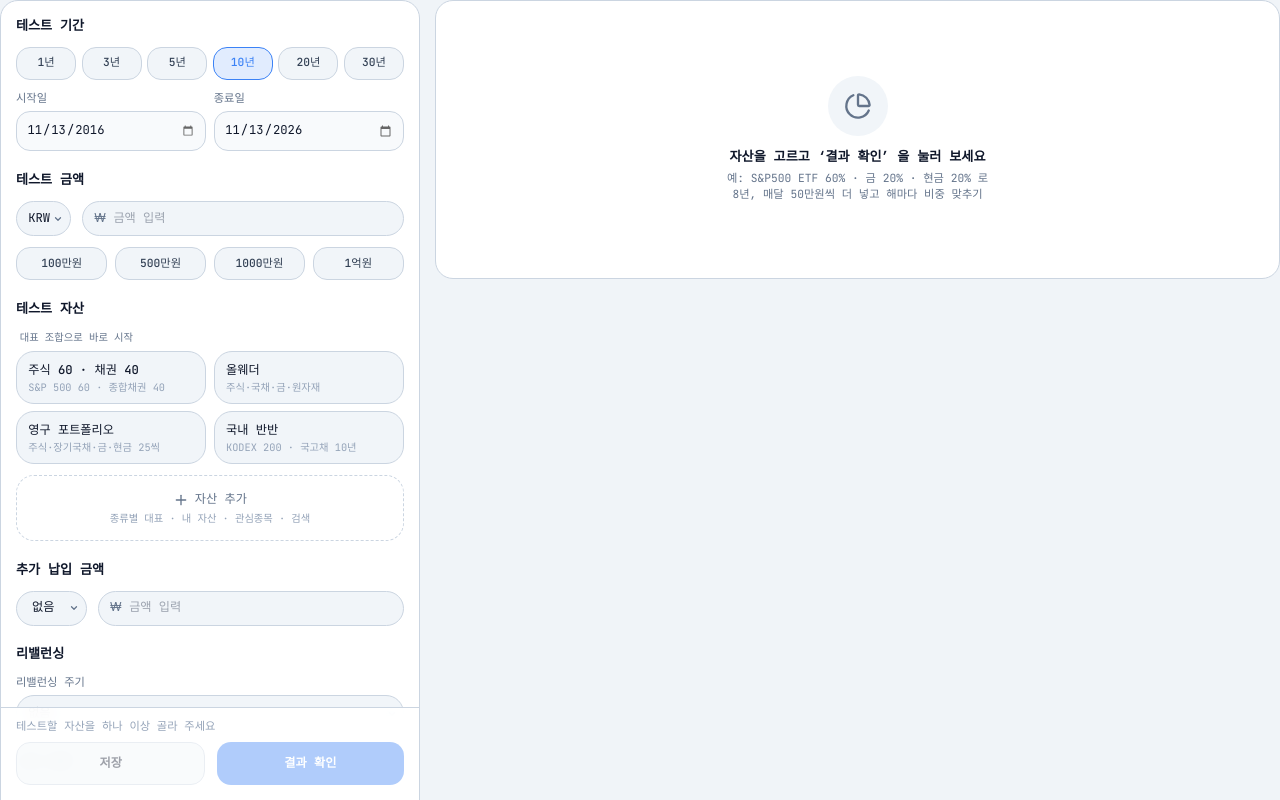
Scenario: 금액을 읽을 수 있게 적는다 › 버튼을 누르면 그 금액으로 바로 정해진다
The image size is (1280, 800).
What coordinates should you click on to do the following:
click the button labelled "1000만원"
I would click on:
 (260, 264)
Its box is top-left (214, 247), bottom-right (305, 280).
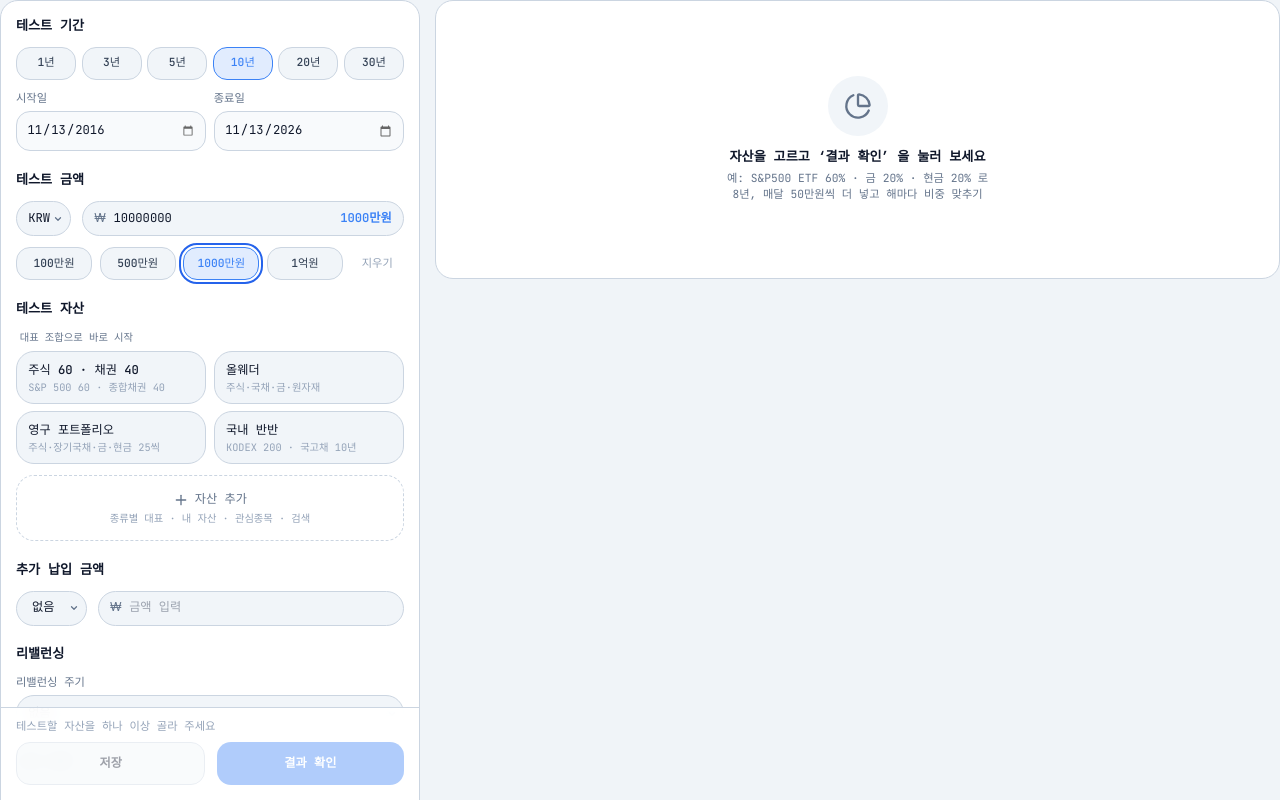
Result: the number field named "테스트 금액" holds "10000000" at top-left (113, 202), bottom-right (333, 235)
What coordinates should you click on to do the following:
click the button labelled "100만원"
I would click on:
 (54, 264)
Its box is top-left (16, 247), bottom-right (92, 280).
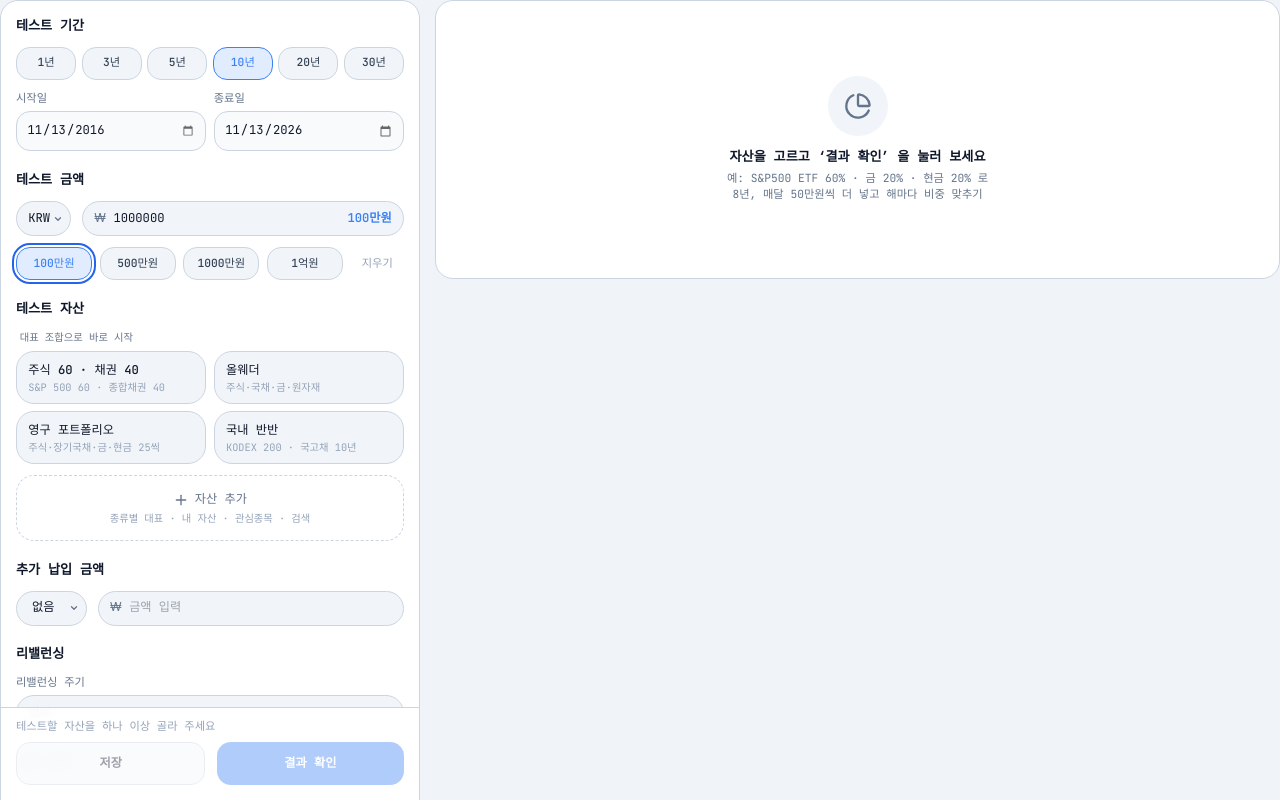
Result: the number field named "테스트 금액" holds "1000000" at top-left (113, 202), bottom-right (340, 235)
